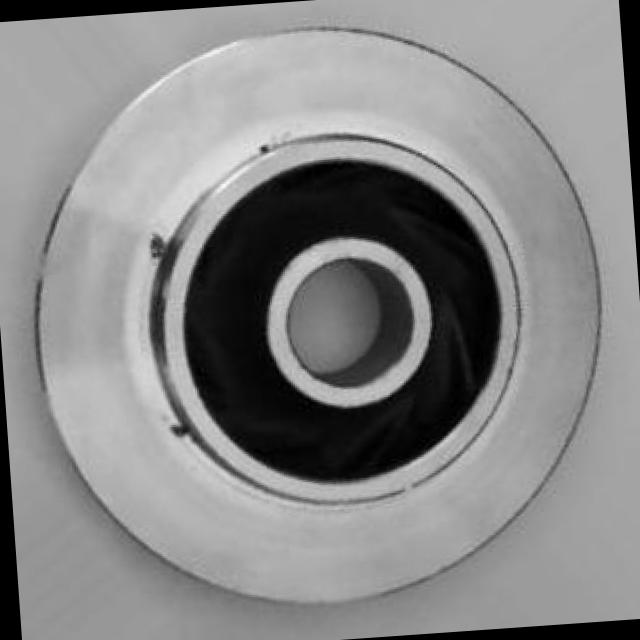Defect: (144, 227, 170, 258)
